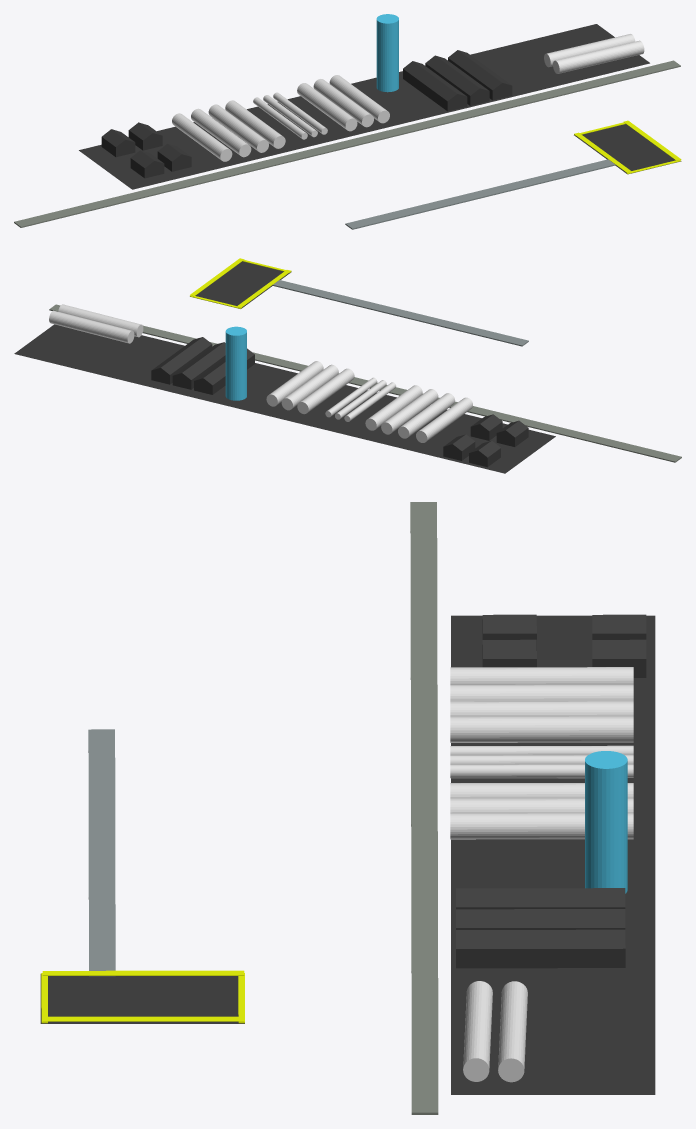
File: buildings_2.glb
3 views of the same model, one above another, from view 1: azimuth 30°, elevation 25°; view 2: azimuth 150°, elevation 25°; view 3: azimuth 270°, elevation 25° (orthographic). The views are drawn at different scales.
Visible parts, largest first — view 1: Plane.001, Cube.005, Plane, Cube.004, Cylinder, Cube.001, Cylinder.012, Cube.006, Cube.002, Cylinder.004, Cylinder.009, Cylinder.010 (+12 smaller); view 2: Plane.001, Cube.005, Cube.004, Plane, Cylinder, Cylinder.013, Cube.006, Cube.002, Cylinder.004, Cylinder.009, Cylinder.010, Cylinder.011 (+12 smaller); view 3: Plane.001, Cube.005, Plane, Cube.004, Cube.006, Cylinder, Cylinder.008, Cylinder.001, Cube.001, Cube.002, Cylinder.011, Cylinder.010 (+14 smaller).
Part boxes in pixels (bbox=[...]): Plane.001: bbox=[79, 24, 649, 189]; Cube.005: bbox=[14, 60, 680, 227]; Plane: bbox=[574, 124, 681, 174]; Cube.004: bbox=[345, 159, 615, 229]; Cylinder: bbox=[376, 14, 398, 92]; Cube.001: bbox=[403, 61, 467, 111]; Cylinder.012: bbox=[553, 40, 644, 73]; Cube.006: bbox=[448, 50, 512, 100]; Cube.002: bbox=[425, 55, 489, 105]; Cylinder.004: bbox=[297, 83, 357, 131]; Cylinder.009: bbox=[208, 104, 268, 152]; Cylinder.010: bbox=[191, 108, 251, 157]; Plane.001: bbox=[14, 324, 555, 473]; Cube.005: bbox=[49, 304, 681, 462]; Cube.004: bbox=[272, 280, 528, 346]; Plane: bbox=[195, 261, 291, 308]; Cylinder: bbox=[225, 326, 246, 400]; Cylinder.013: bbox=[49, 310, 134, 343]; Cube.006: bbox=[151, 337, 212, 384]; Cube.002: bbox=[172, 342, 225, 389]; Cylinder.004: bbox=[297, 368, 354, 414]; Cylinder.009: bbox=[381, 389, 438, 434]; Cylinder.010: bbox=[398, 393, 455, 438]; Cylinder.011: bbox=[416, 397, 472, 442]; Plane.001: bbox=[451, 615, 655, 1094]; Cube.005: bbox=[410, 502, 438, 1114]; Plane: bbox=[40, 974, 244, 1023]; Cube.004: bbox=[88, 729, 115, 976]; Cube.006: bbox=[456, 929, 625, 968]; Cylinder: bbox=[585, 751, 627, 893]; Cylinder.008: bbox=[450, 716, 633, 742]; Cylinder.001: bbox=[450, 813, 633, 839]; Cube.001: bbox=[456, 888, 625, 909]; Cube.002: bbox=[456, 909, 625, 929]; Cylinder.011: bbox=[450, 667, 633, 684]; Cylinder.010: bbox=[450, 684, 633, 701].
Size of the model in its own units: 67.48 by 6.77 by 28.7.
